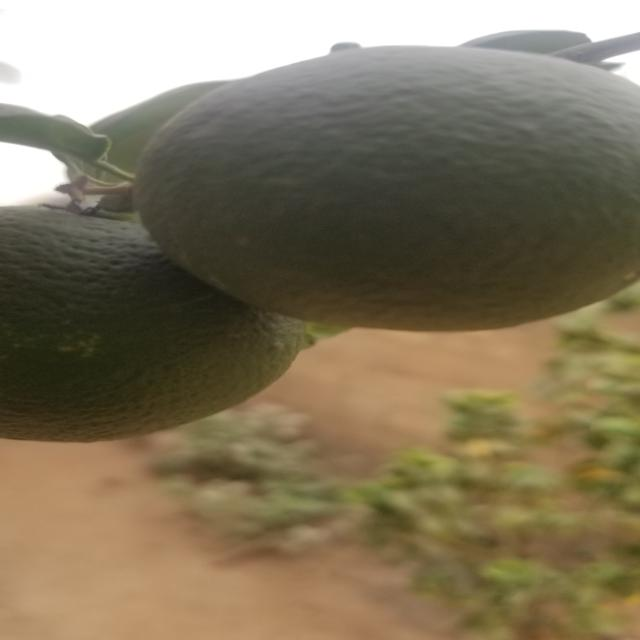Unripe: (140, 46, 637, 325), (0, 205, 317, 440)
